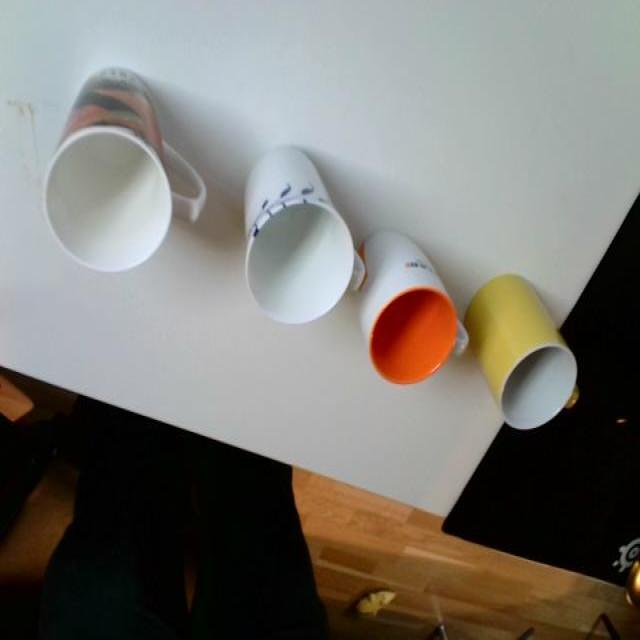cup: (34, 52, 205, 270), (230, 141, 357, 321), (362, 214, 468, 388), (472, 270, 581, 432)
